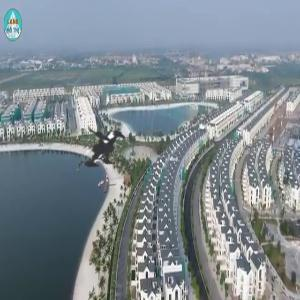drone: (26, 63, 189, 226)
